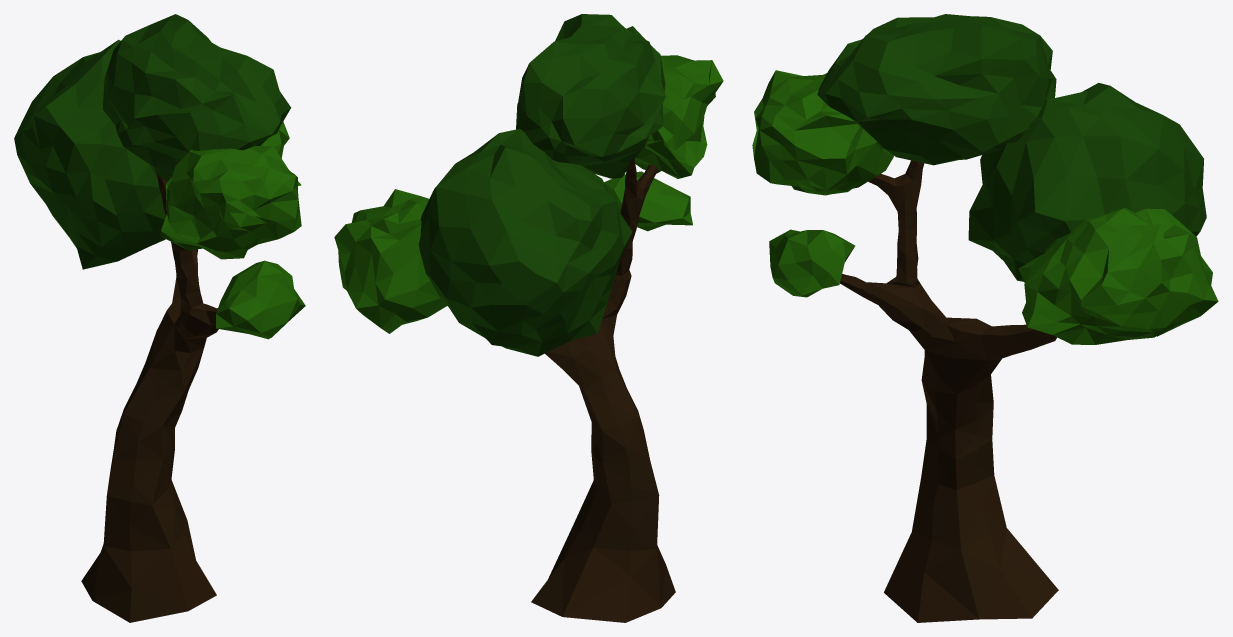
The model's file is common_tree_2.glb.
The picture shows the model from 3 angles, left to right: view 1: azimuth 30°, elevation 25°; view 2: azimuth 150°, elevation 25°; view 3: azimuth 270°, elevation 25°; orthographic projection. The views are drawn at different scales.
Visible parts, largest first — view 1: common_tree_2_leaves_dark, common_tree_2_trunk, common_tree_2_leaves; view 2: common_tree_2_leaves_dark, common_tree_2_trunk, common_tree_2_leaves; view 3: common_tree_2_leaves_dark, common_tree_2_leaves, common_tree_2_trunk.
Boxes of the visible parts, x1,y1,x2,y2 form: common_tree_2_leaves_dark: (14,14,291,269); common_tree_2_trunk: (81,171,218,622); common_tree_2_leaves: (160,121,305,339); common_tree_2_leaves_dark: (418,14,665,356); common_tree_2_trunk: (531,156,675,622); common_tree_2_leaves: (334,55,723,333); common_tree_2_leaves_dark: (817,14,1206,281); common_tree_2_leaves: (752,70,1218,344); common_tree_2_trunk: (840,160,1058,622).
Bounding box in the file's own units: 2.5 × 5.33 × 3.74.
